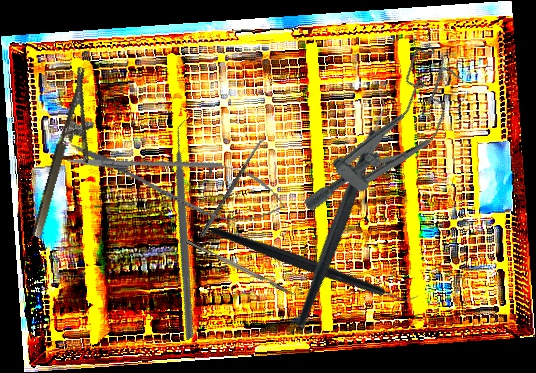Chopper: (223, 85, 457, 331), (82, 114, 298, 341), (209, 163, 422, 362), (186, 234, 304, 301)
Micro Scissor: (62, 125, 292, 235)
Needle Holder: (29, 66, 113, 245)
Speculum: (291, 38, 480, 241)
Surgical Spoon: (199, 135, 267, 238)
